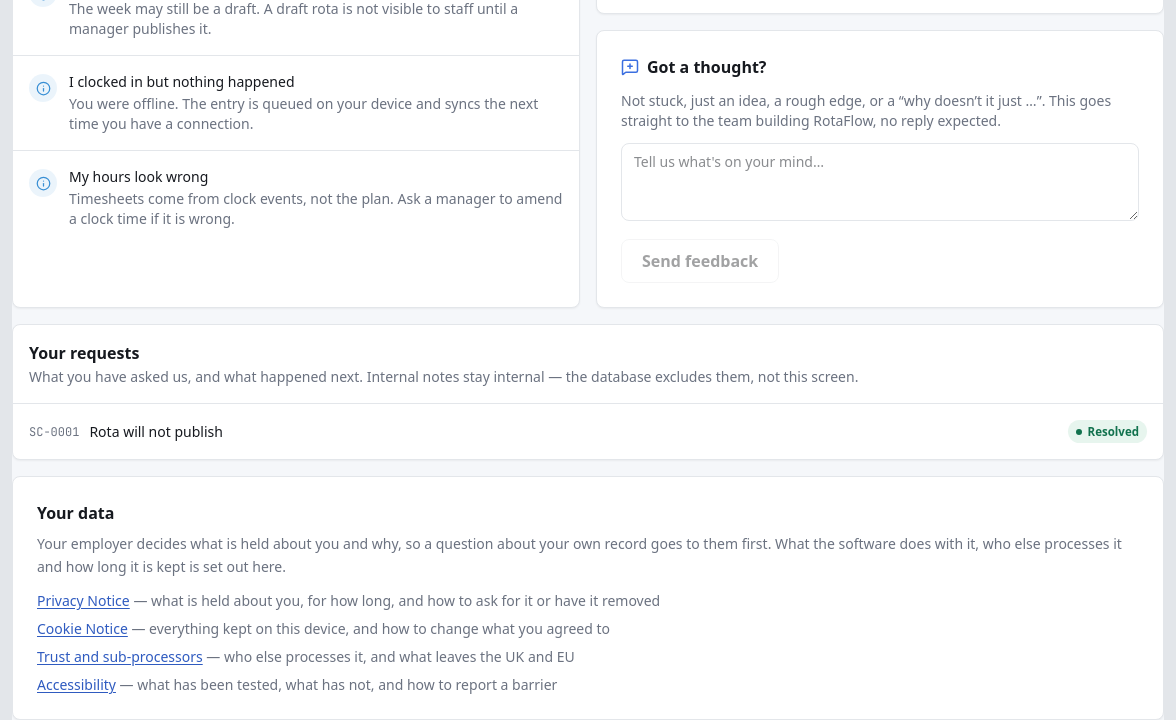
Test: HelpPage — the requester’s view of their own case › still offers a reply on a resolved case, because "this is not fixed" is the one that matters
(page scrolled)
Click the text "Rota will not publish" at (156, 431), box [89,422,223,441]
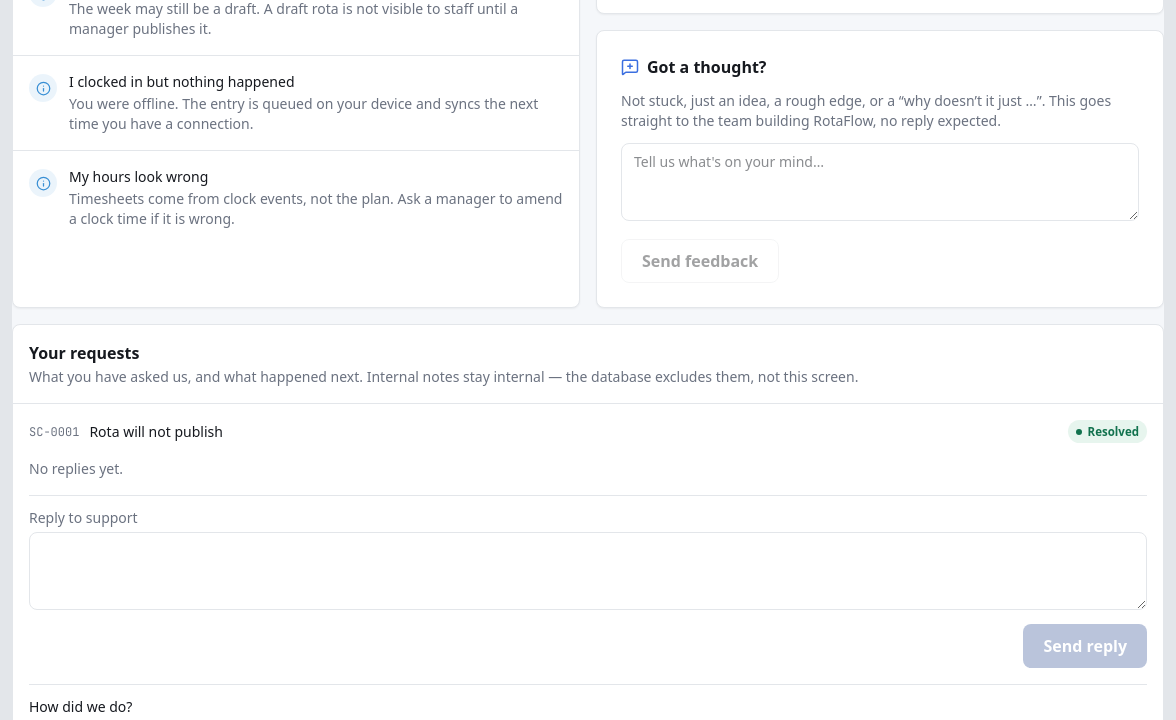
Expected: the text box labelled "Reply to support" is shown, [29,532,1147,610]
